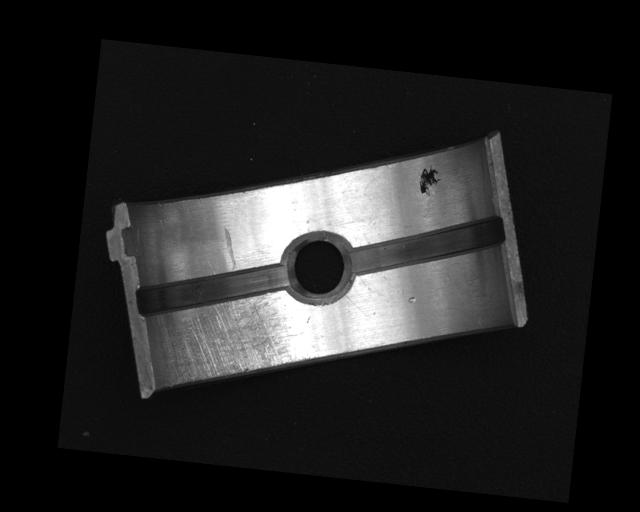blot: (417, 161, 444, 197)
bruise: (405, 295, 418, 304)
gap: (343, 198, 507, 291), (133, 247, 291, 331)
hole: (279, 231, 357, 307)
nick: (217, 226, 241, 272), (340, 293, 370, 317)
scratch: (152, 282, 307, 402)
